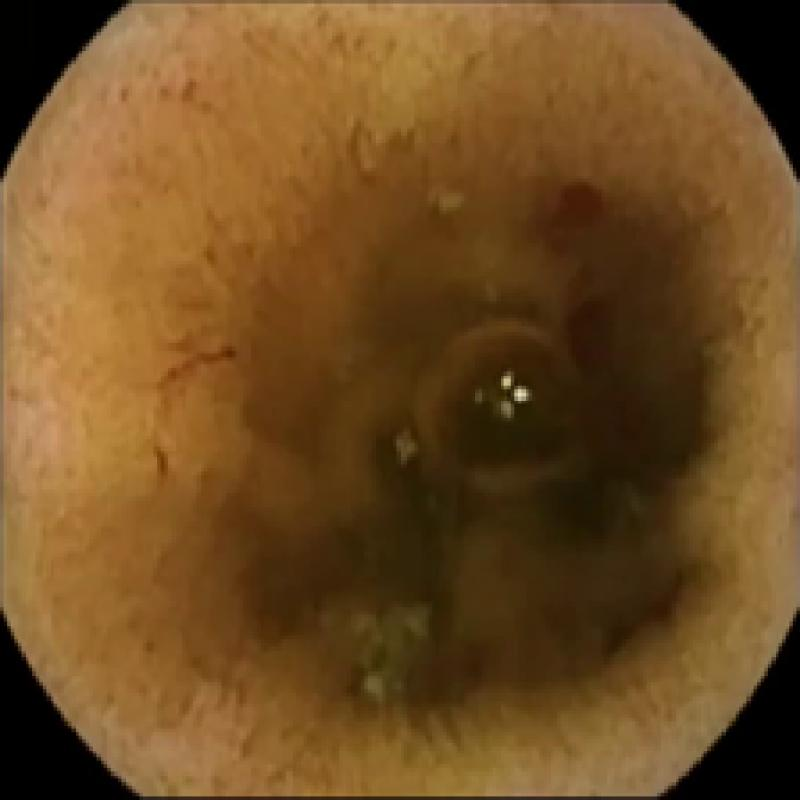bleeding: (528, 164, 704, 279)
